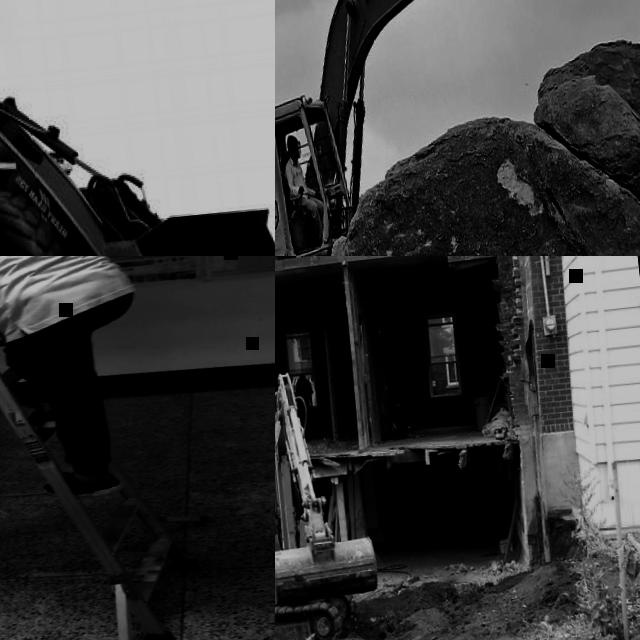NO-Hardhat: (284, 131, 300, 148)
NO-Mask: (290, 149, 301, 160)
NO-Safety Vest: (0, 256, 134, 339), (287, 161, 307, 197)
Person: (0, 256, 153, 512), (282, 128, 330, 244), (293, 372, 316, 424)
machinery: (275, 0, 640, 256), (0, 0, 275, 256), (275, 366, 383, 640)
